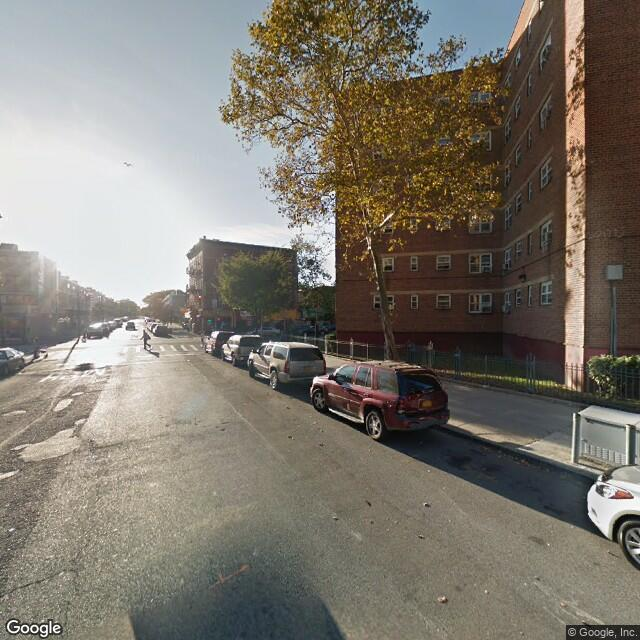litter: (482, 383, 492, 390), (332, 515, 339, 521)
